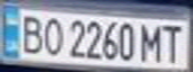0: (118, 20, 139, 62)
2: (63, 16, 87, 60), (84, 17, 106, 61)
6: (100, 18, 121, 62)
B: (15, 11, 48, 55)
M: (139, 20, 166, 62)
O: (39, 15, 66, 56)
T: (157, 21, 187, 63)
